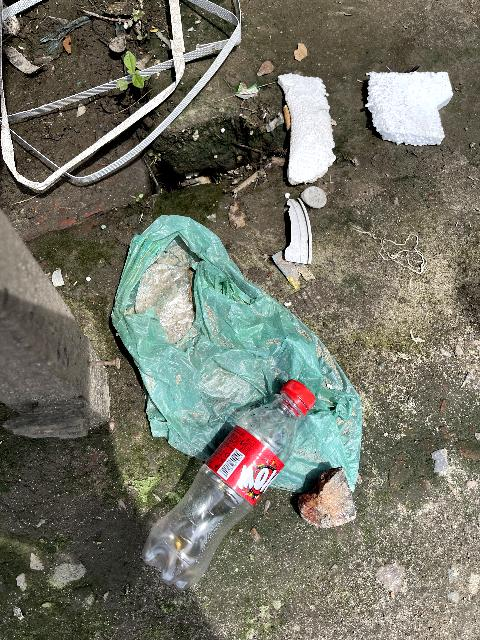bottle: (121, 375, 319, 603)
